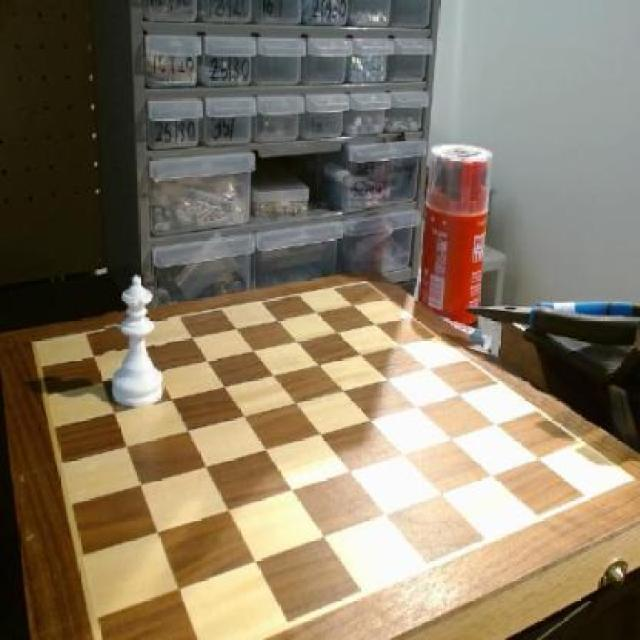white-pawn: (103, 275, 169, 411)
